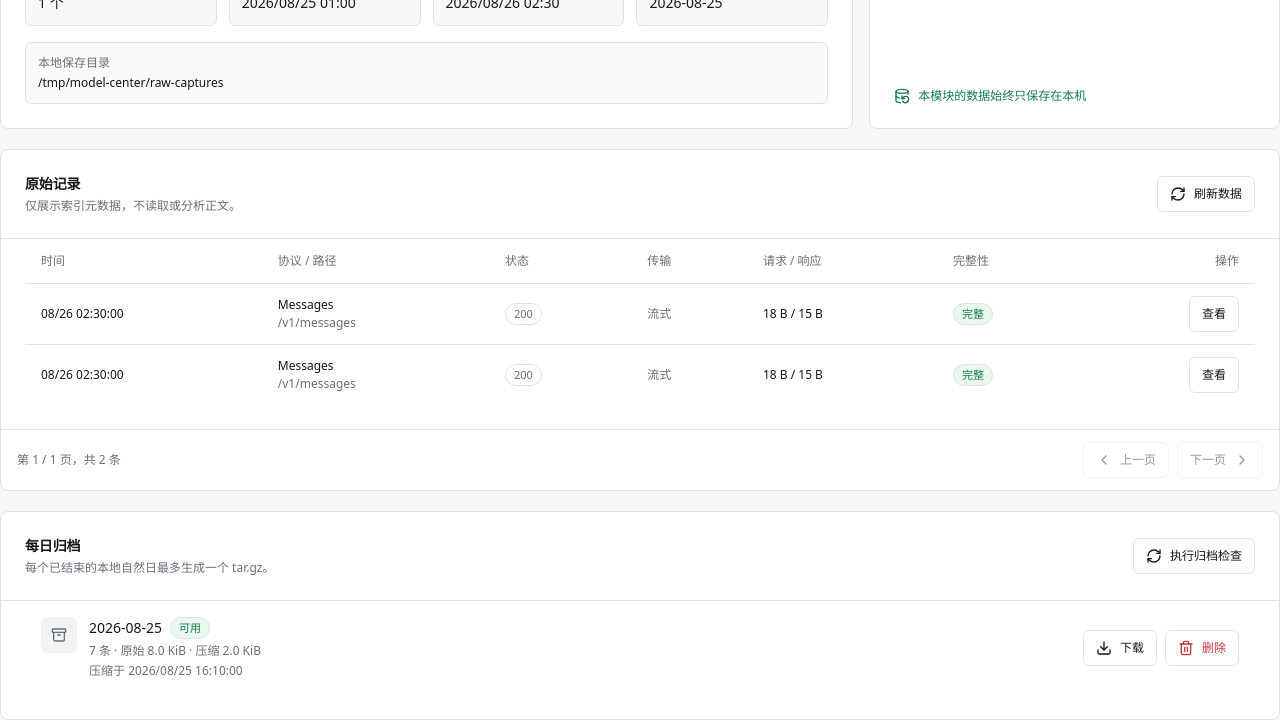
Test: RawDataClient › keeps an active record selected from the same day when deleting an archive
(page scrolled)
Click the button "删除" at (1202, 648), box top-left (1165, 630), bottom-right (1239, 666)
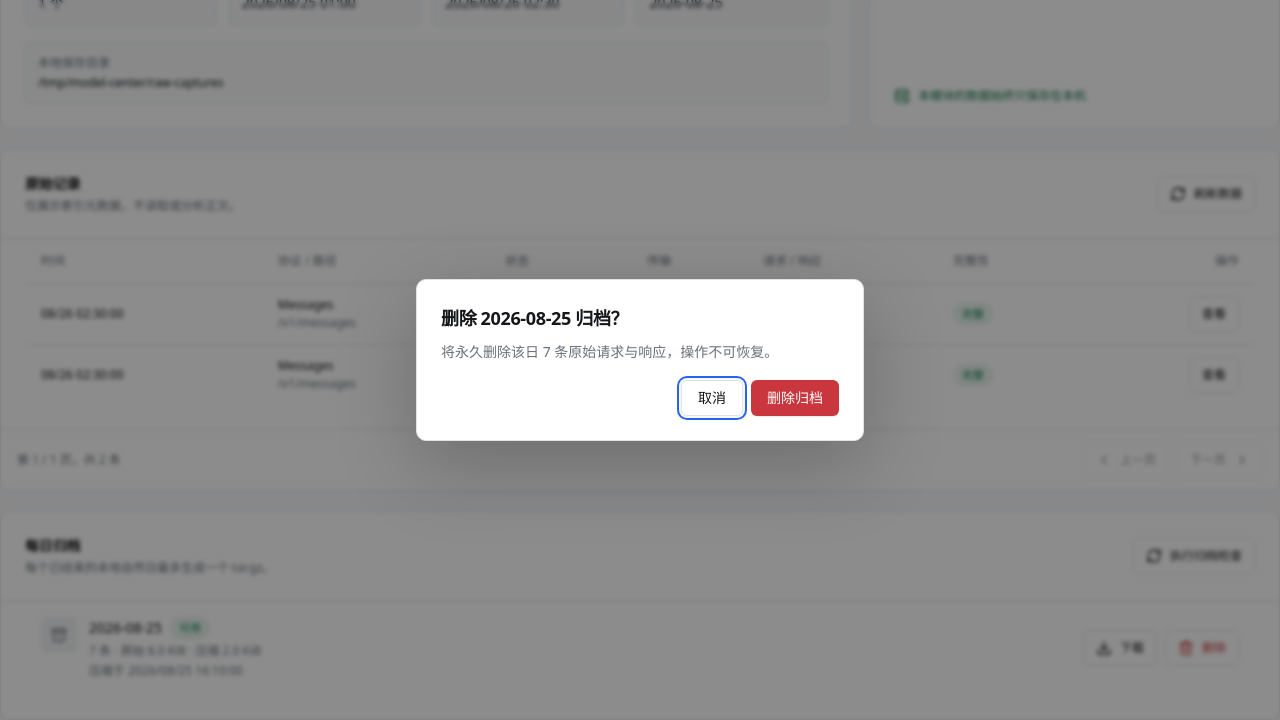
Click the button "删除归档" at (795, 398), box top-left (751, 380), bottom-right (839, 416)
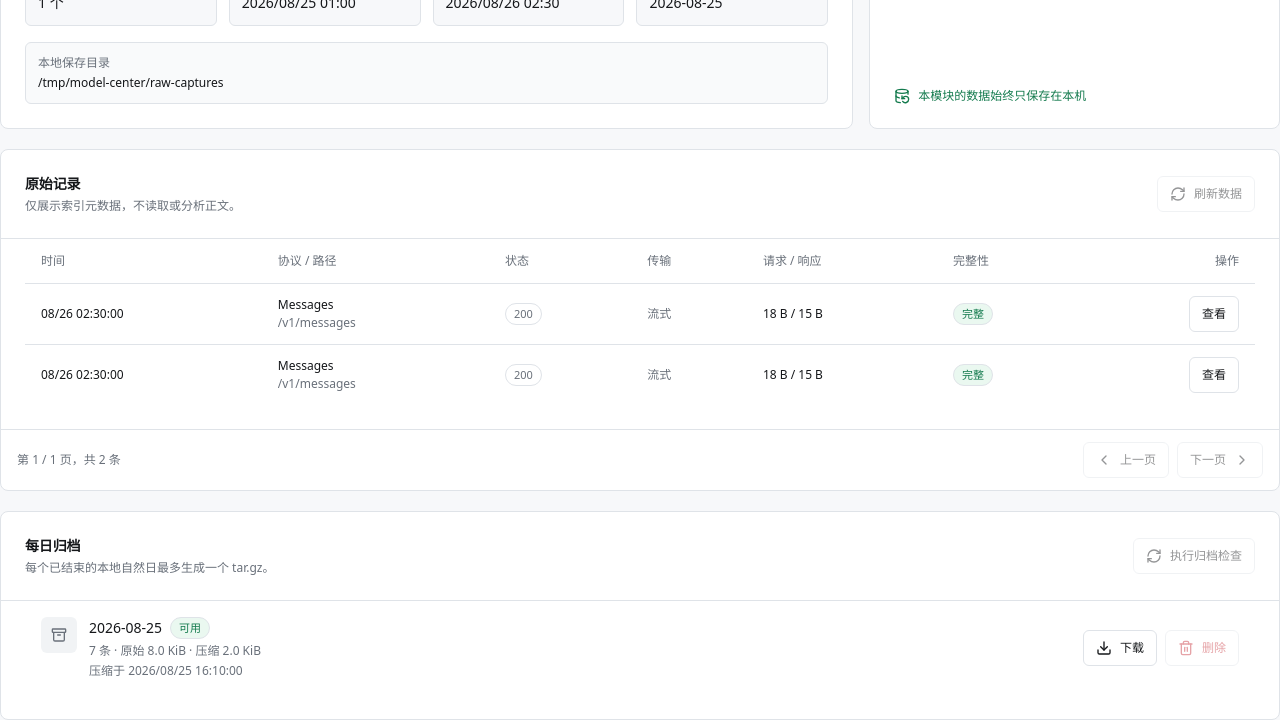
Click the 2nd button "查看" at (1214, 374), box top-left (1189, 356), bottom-right (1239, 392)
(page scrolled)
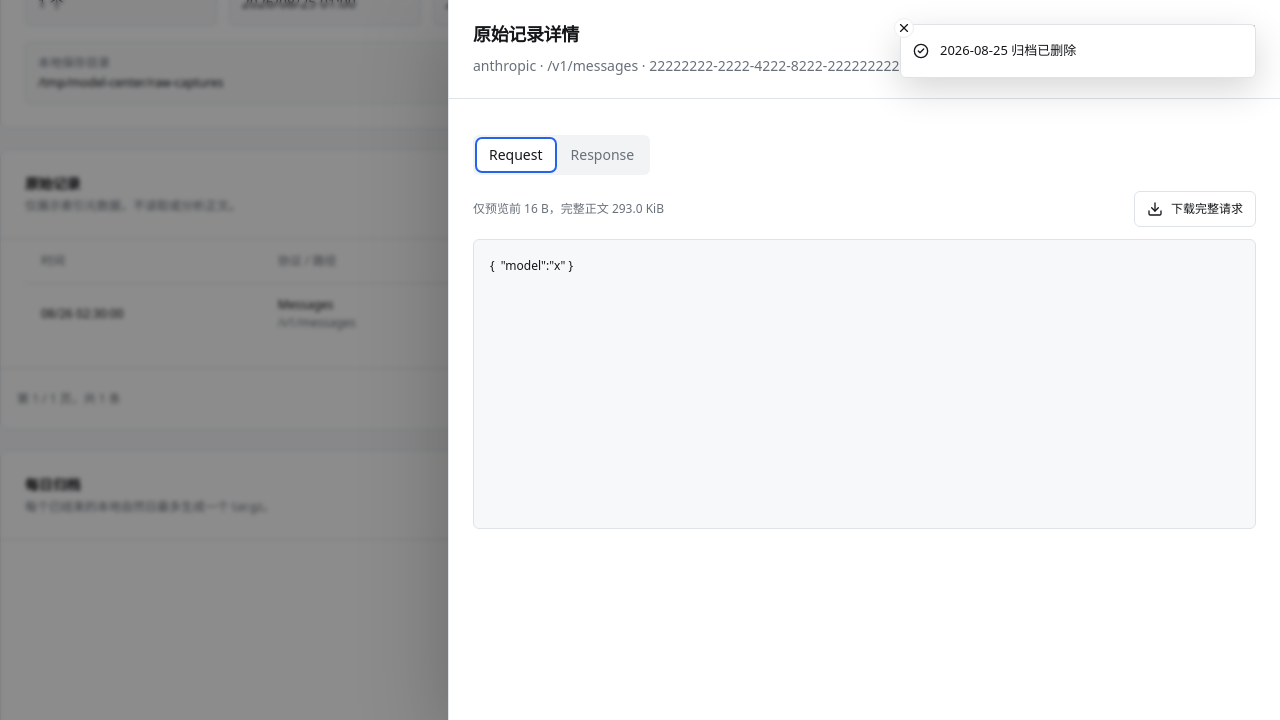
Expected: the element named "请求原始正文" is shown, top-left (473, 191), bottom-right (1256, 529)
Expected: the dialog "原始记录详情" is shown
Expected: the text "22222222-2222-4222-8222-222222222222" is shown, top-left (473, 56), bottom-right (924, 75)
